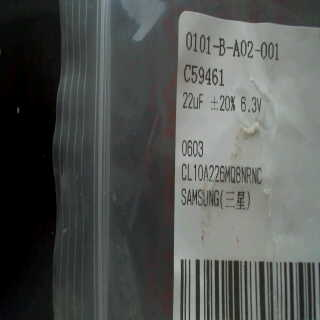22uF: (181, 88, 205, 116)
